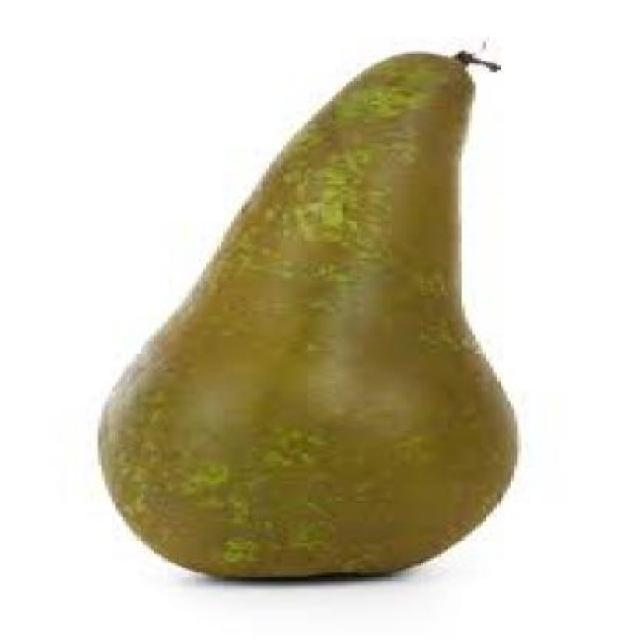BIODEGRADABLE: (90, 49, 522, 578)
